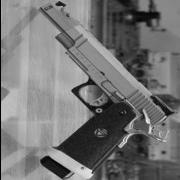gun: (38, 0, 174, 180)
